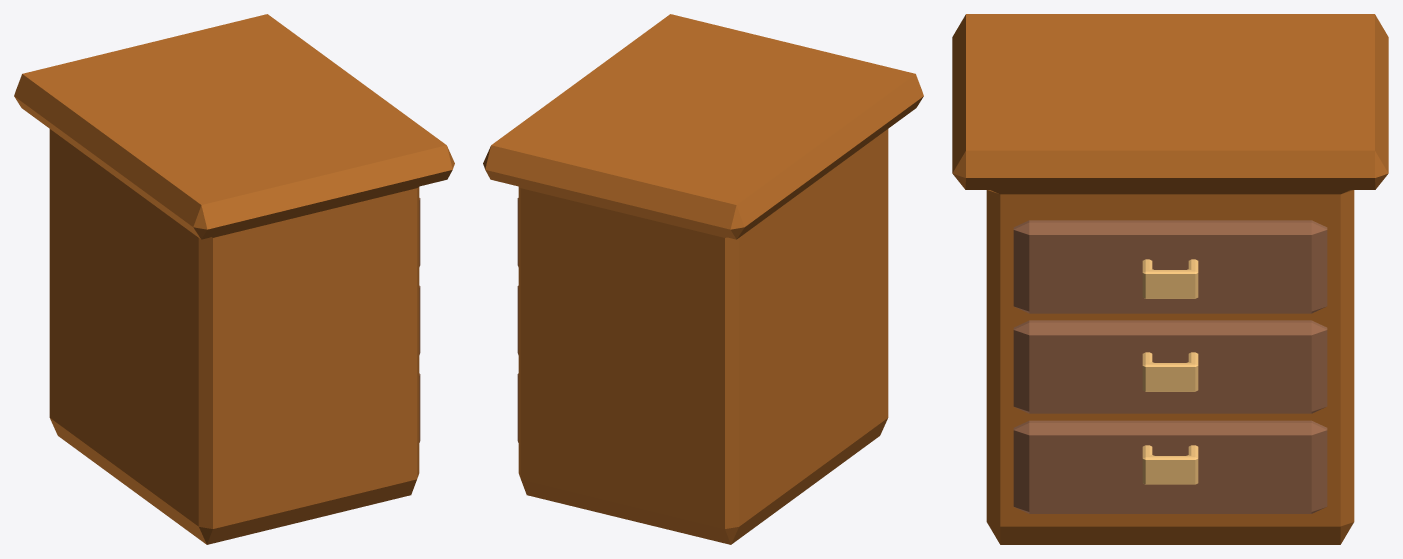
The model's file is nightStand.fbx.
3 views of the same model, side by side, from view 1: azimuth 30°, elevation 25°; view 2: azimuth 150°, elevation 25°; view 3: azimuth 270°, elevation 25° (orthographic). The views are drawn at different scales.
Visible parts, largest first — view 1: Cube.004; view 2: Cube.004; view 3: Cube.004, Cube.005, Cube.006.
Part boxes in pixels (bbox=[...]): Cube.004: bbox=[14, 14, 454, 544]; Cube.004: bbox=[483, 14, 923, 544]; Cube.004: bbox=[952, 14, 1388, 544]; Cube.005: bbox=[1013, 220, 1327, 513]; Cube.006: bbox=[1142, 259, 1198, 484].
Size of the model in its own units: 405 by 494 by 481.
